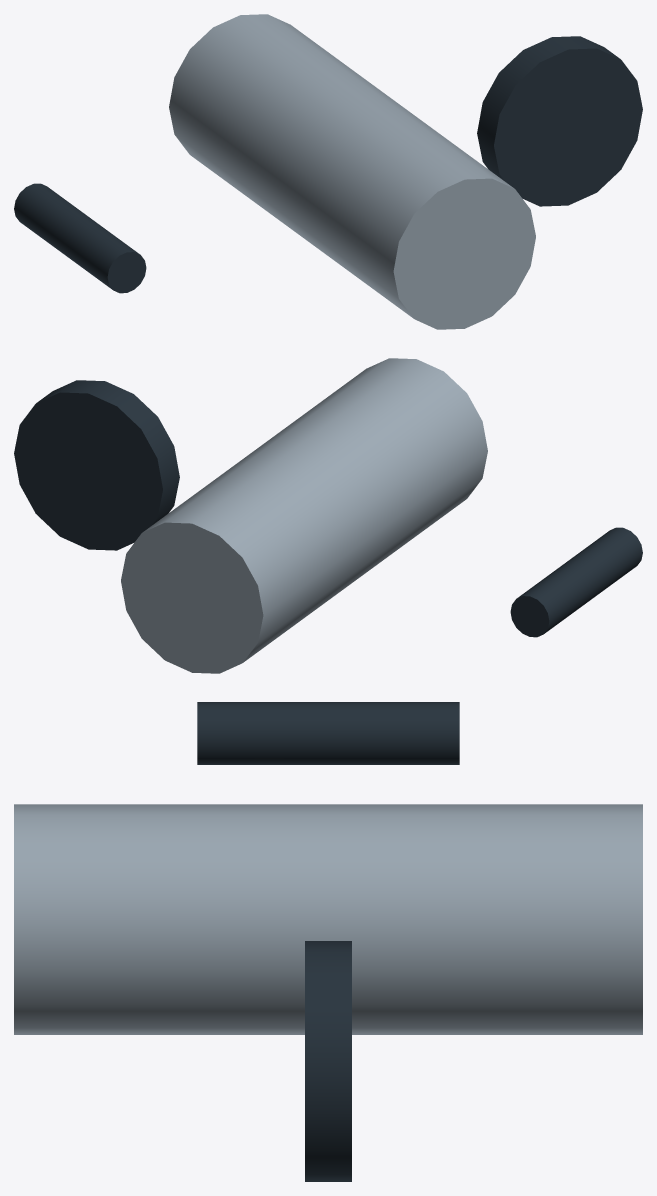
3 renders of one model, top to bottom at view 1: azimuth 30°, elevation 25°; view 2: azimuth 150°, elevation 25°; view 3: azimuth 270°, elevation 25°, orthographic. The views are drawn at different scales.
Parts seen in each view (by area): view 1: 防跑偏传感器; view 2: 防跑偏传感器; view 3: 防跑偏传感器.
Boxes of the visible parts, <box> form: 防跑偏传感器: <box>14,14,642,329</box>; 防跑偏传感器: <box>14,358,642,673</box>; 防跑偏传感器: <box>14,702,642,1181</box>.
Size of the model in its own units: 0.885 by 0.23 by 0.6.
